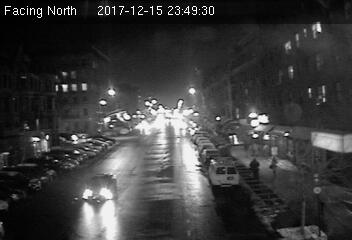car: (83, 174, 119, 202), (209, 157, 240, 188)
pedestrian: (249, 158, 261, 182), (269, 156, 281, 179)
